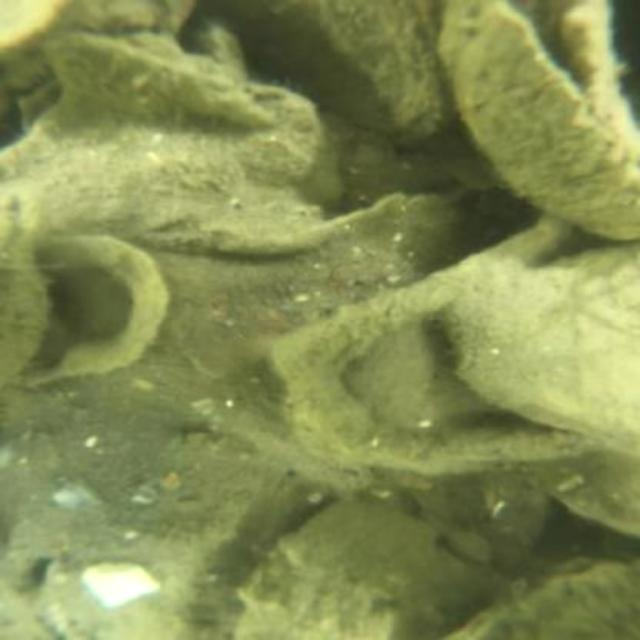Oyster-Closed: (266, 211, 624, 478), (155, 192, 460, 382), (10, 86, 329, 254), (447, 2, 638, 241), (447, 243, 638, 454), (238, 503, 503, 638), (208, 0, 449, 146), (0, 232, 169, 389), (44, 34, 291, 121), (44, 536, 216, 633), (451, 559, 638, 637), (509, 452, 637, 538), (0, 211, 50, 388)
